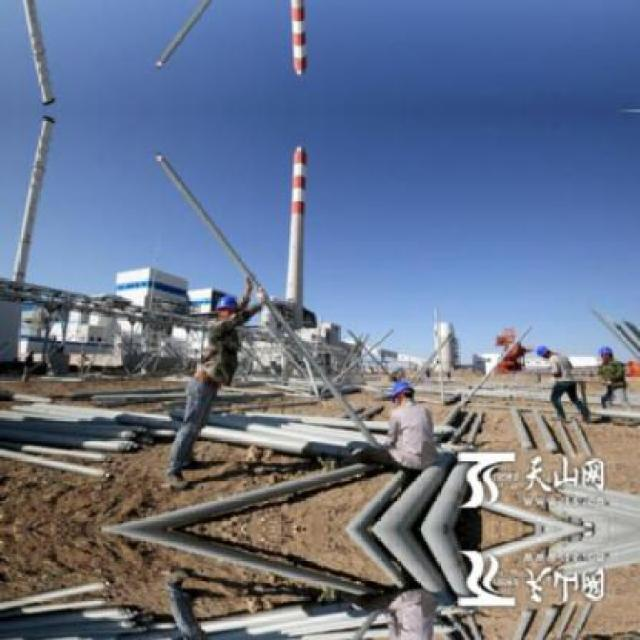helmet: (384, 376, 416, 406), (212, 288, 237, 318), (534, 338, 555, 360), (594, 342, 614, 363)
